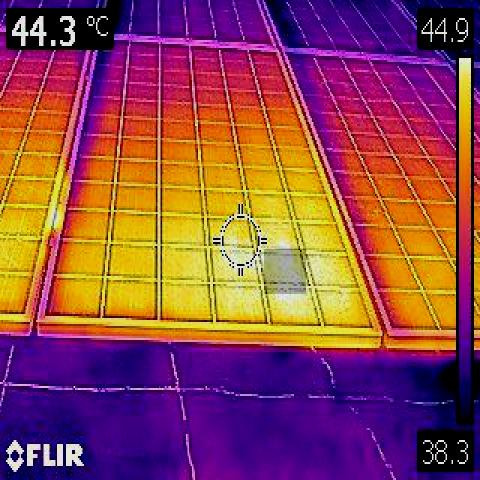fault: (264, 249, 306, 294)
